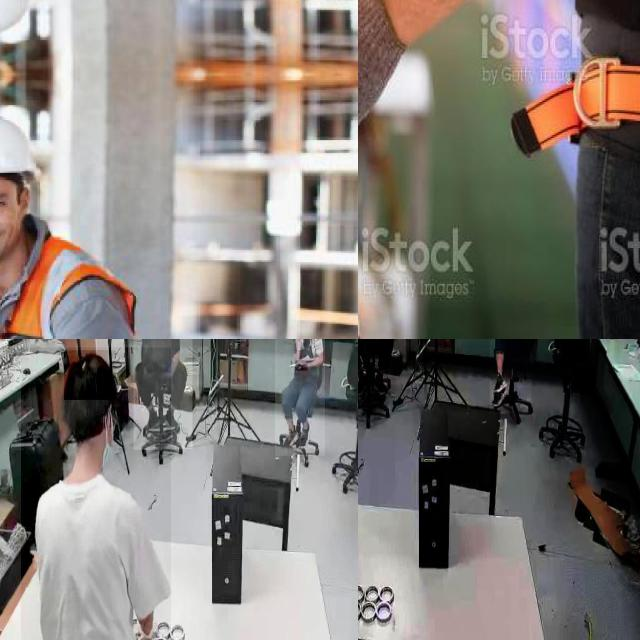Harness: (513, 64, 640, 156)
No_Ear-Protection: (18, 185, 31, 222)
hand_noglove: (296, 360, 308, 371), (294, 339, 303, 351)
head_helmet: (0, 117, 36, 176)
head_nohelmet: (64, 350, 116, 401)
person: (20, 347, 171, 640), (133, 339, 192, 449), (274, 339, 325, 457), (489, 339, 532, 414), (358, 339, 397, 395)
shoes: (372, 370, 391, 400), (143, 404, 161, 433), (163, 406, 181, 435), (491, 383, 509, 411), (298, 416, 312, 449), (358, 369, 369, 403), (284, 426, 299, 448), (493, 372, 506, 396)
